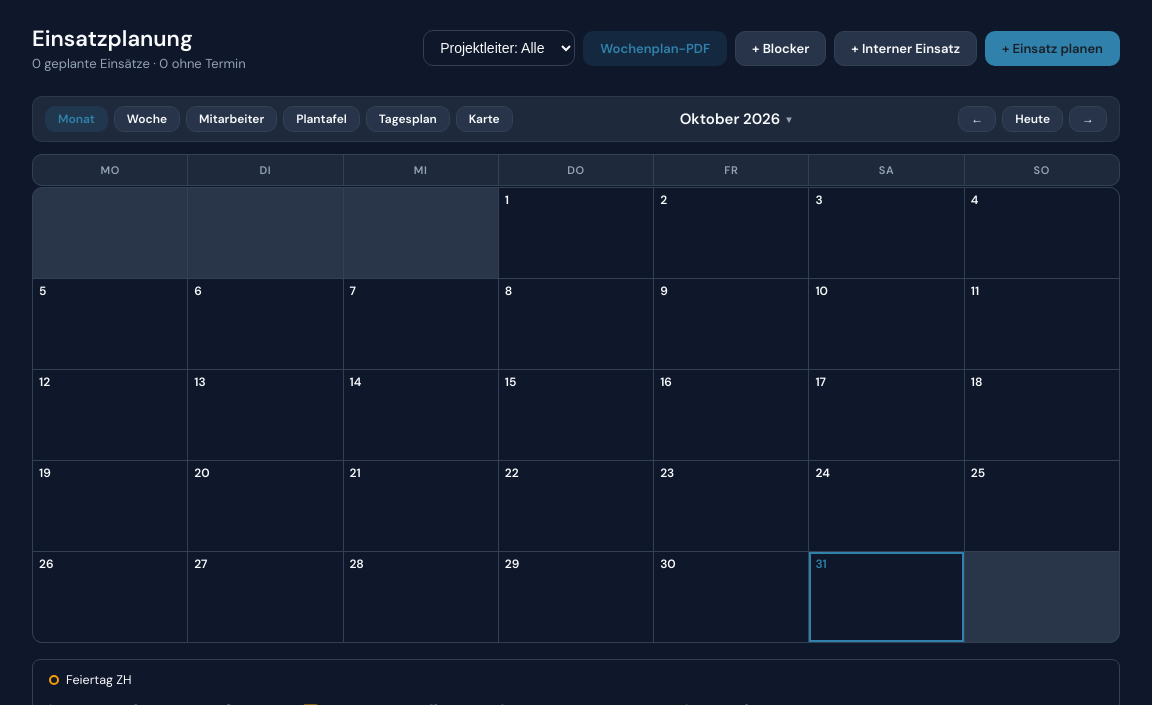
Test case: Blocker mit Kategorien › lässt die Kategorie im Titel ergänzen, ohne die Auswahl zu erzwingen
The width and height of the screenshot is (1152, 705).
Click the button "+ Blocker": click(781, 48) [735,30,826,66]
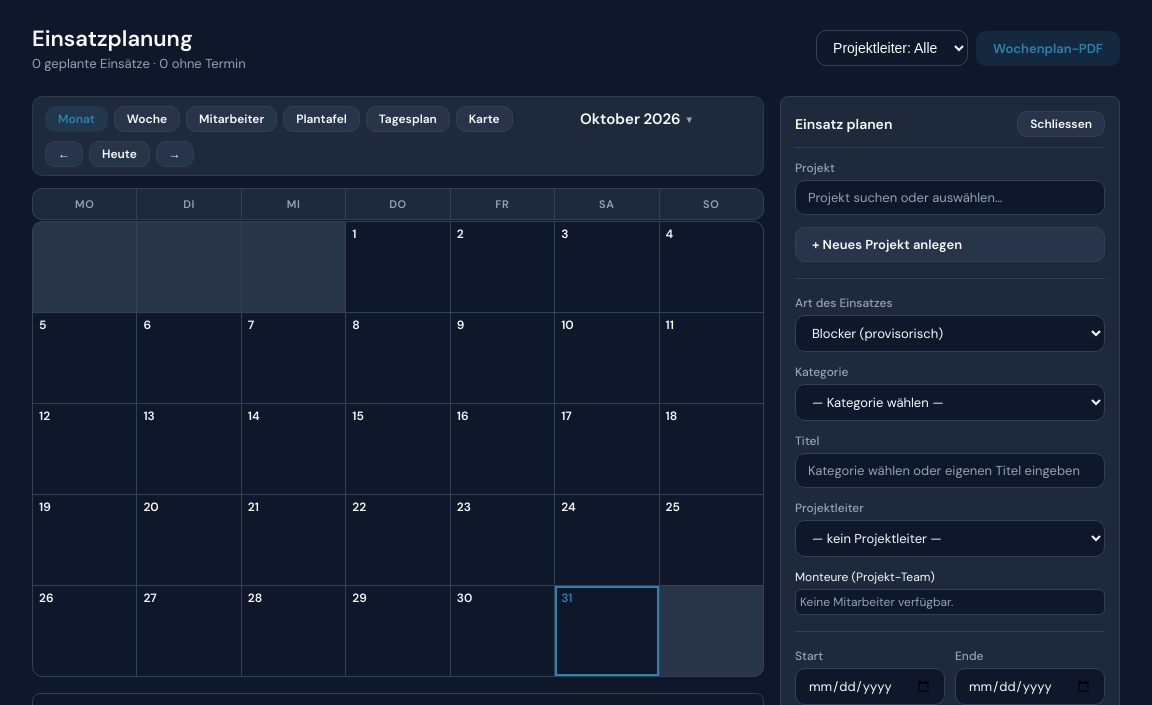
Select "Wetter" in the dropdown labelled "Kategorie": (950, 402) [795,384,1105,421]
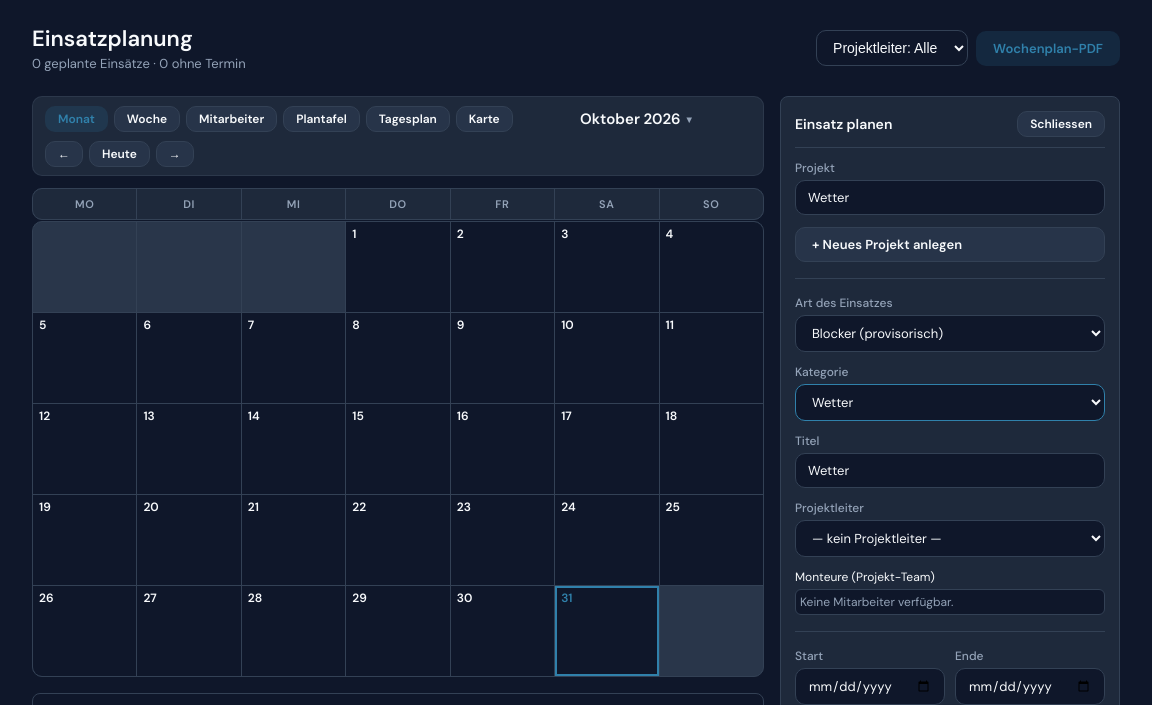
In the field labelled "Titel": (950, 470) [795,453,1105,488], type " – Fassade Muster"
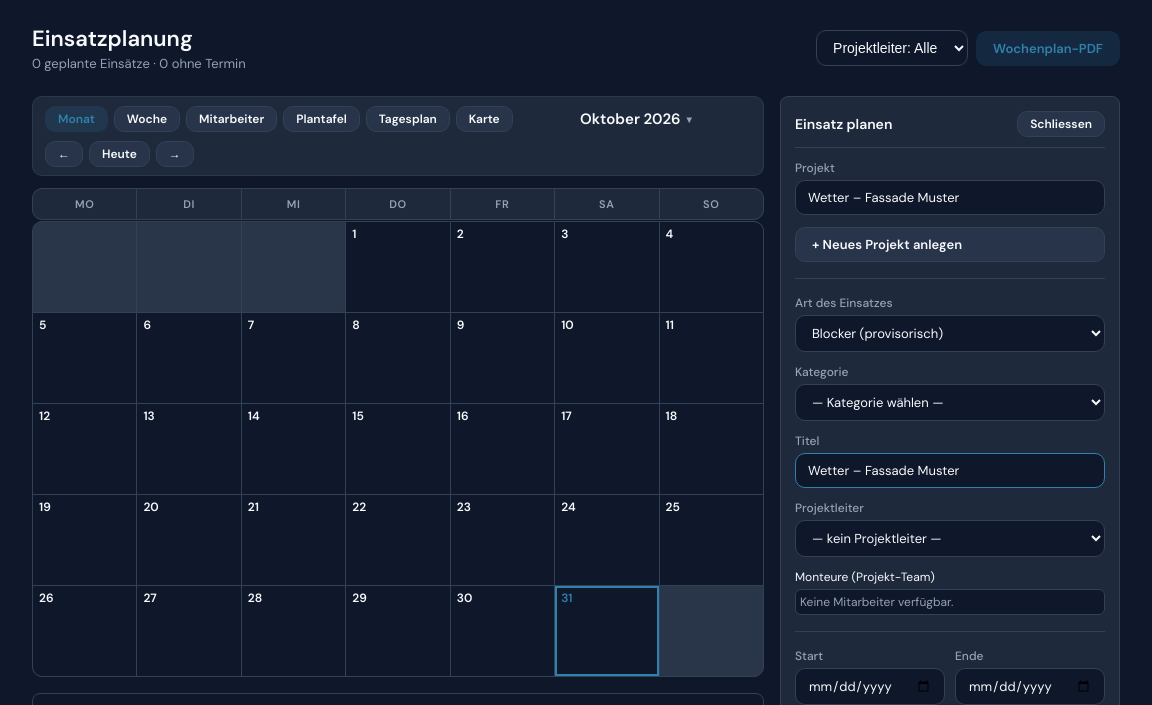
Expected: the field labelled "Titel" holds "Wetter – Fassade Muster", [795,453,1105,488]
